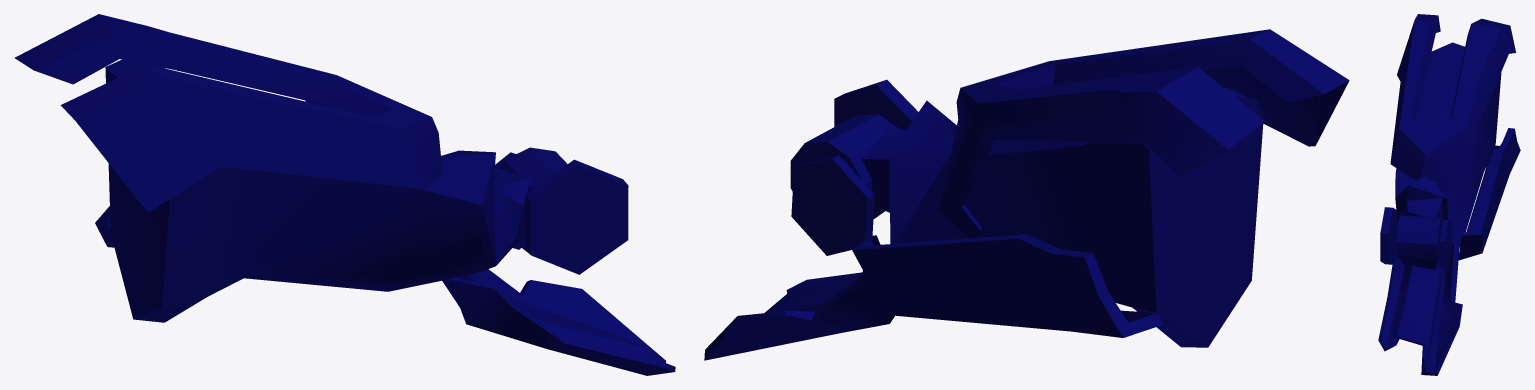
Rendered from LAnkle.obj.
3 views of the same model, side by side, from view 1: azimuth 30°, elevation 25°; view 2: azimuth 150°, elevation 25°; view 3: azimuth 270°, elevation 25° (orthographic). The views are drawn at different scales.
Parts seen in each view (by area): view 1: AnkleL Trailer1; view 2: AnkleL Trailer1; view 3: AnkleL Trailer1.
Part boxes in pixels (bbox=[...]): AnkleL Trailer1: bbox=[15, 14, 675, 375]; AnkleL Trailer1: bbox=[704, 29, 1349, 360]; AnkleL Trailer1: bbox=[1378, 14, 1520, 375].
Size of the model in its own units: 314 by 213 by 123.
